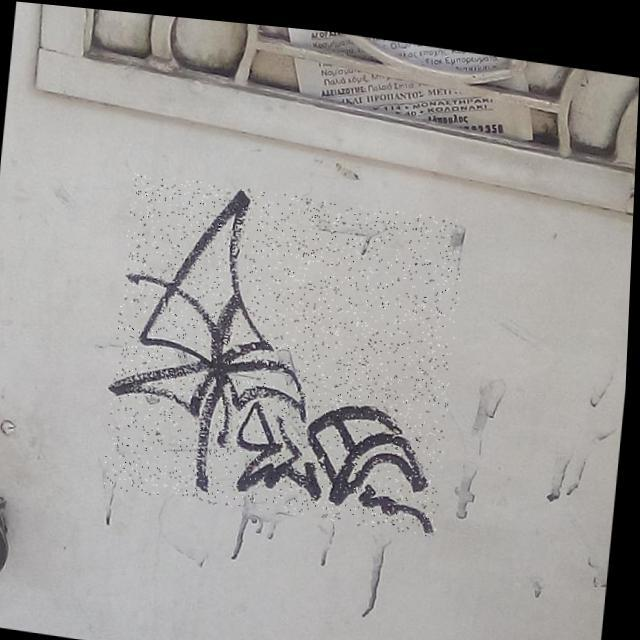-: (106, 168, 468, 530)
